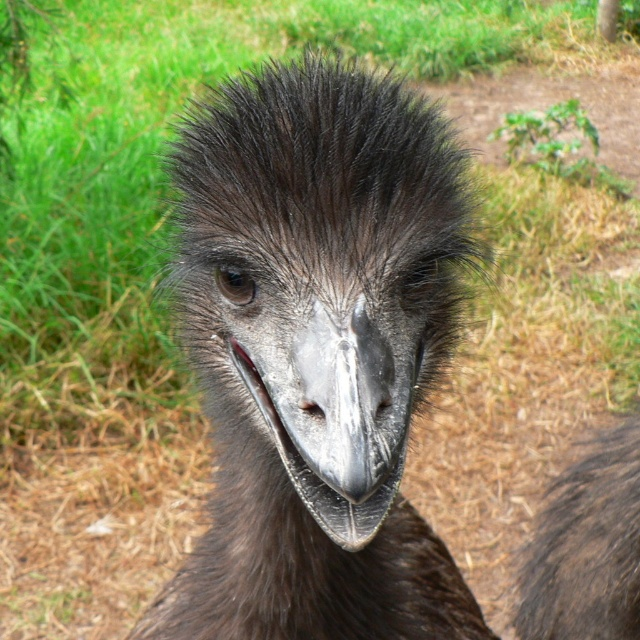Ostrich: (118, 33, 538, 640), (505, 406, 640, 640)
